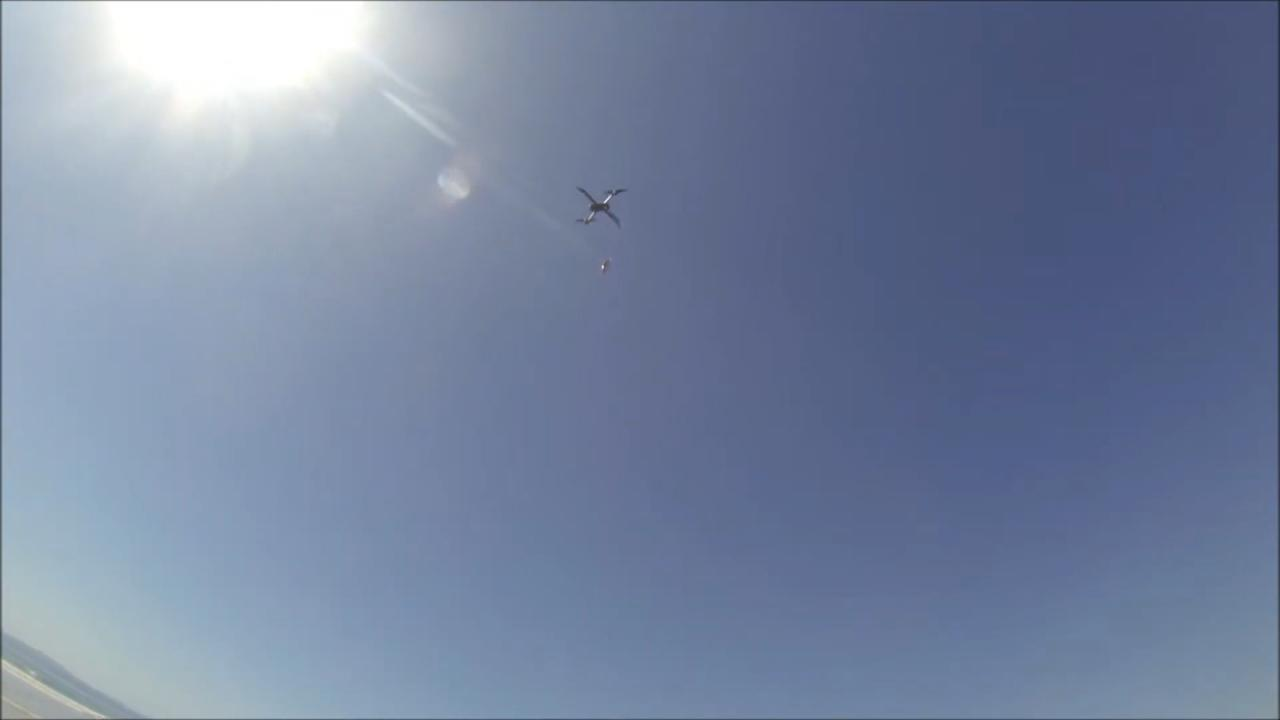Drone: (563, 172, 637, 242)
